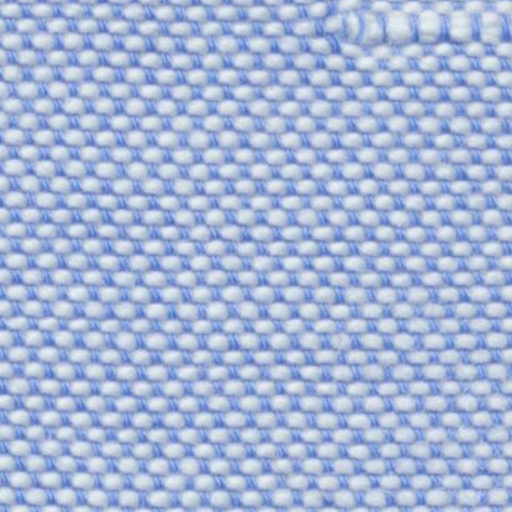DaiSha: (332, 7, 504, 59)
